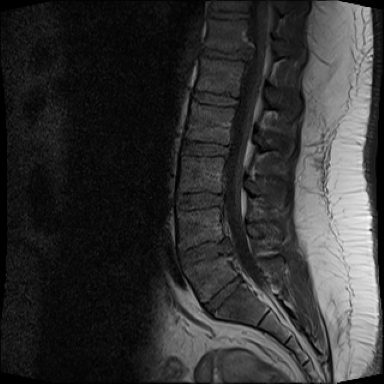Degenerative Disc Disease (DDD): (194, 47, 261, 65)
Lumbar Disc Bulge (LDB): (170, 231, 241, 273)
Normal IVD: (198, 271, 248, 322), (170, 185, 227, 216), (174, 135, 232, 160), (184, 88, 243, 112), (204, 5, 255, 25)
Spinal Stenosis (SS): (237, 38, 266, 67), (218, 228, 241, 260)
Thoracic Disc Bulge (TDB): (197, 41, 262, 63)
